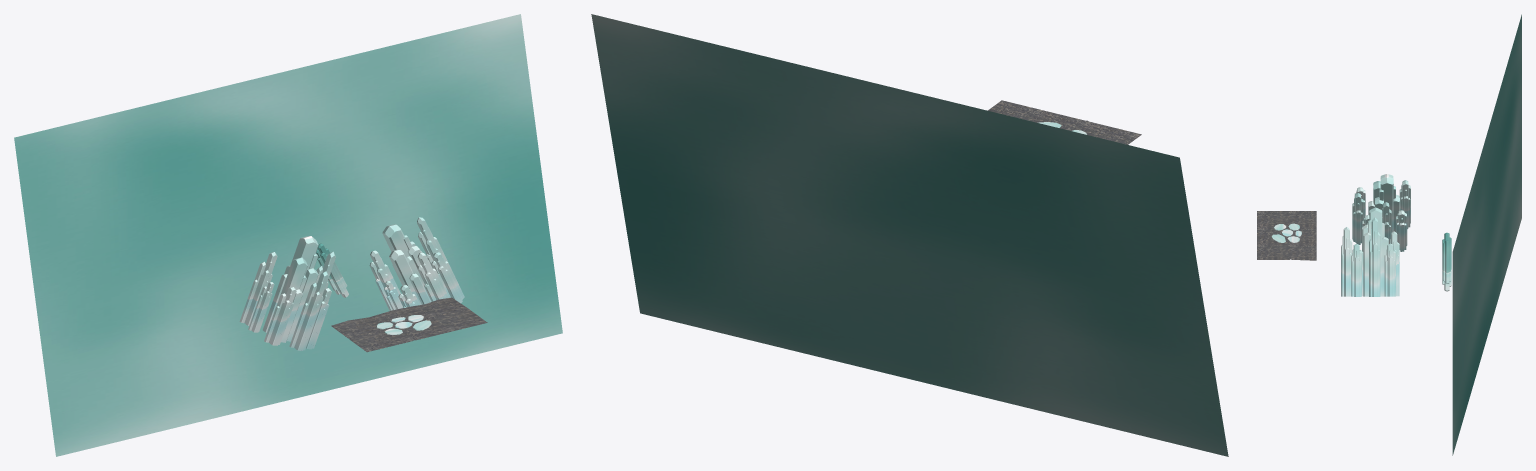
The model's file is WordFightArena_Blender.fbx.
The picture shows the model from 3 angles, left to right: view 1: azimuth 30°, elevation 25°; view 2: azimuth 150°, elevation 25°; view 3: azimuth 270°, elevation 25°; orthographic projection. The views are drawn at different scales.
Parts seen in each view (by area): view 1: pPlane1, SM_Cristall_51, SM_Cristall_52, pCube6, SM_Cristall_48; view 2: pPlane1, pCube6; view 3: pPlane1, SM_Cristall_52, SM_Cristall_51, pCube6, SM_Cristall_48.
Part boxes in pixels (x1,y1,x2,y2): pPlane1: [14, 14, 562, 456]; SM_Cristall_51: [239, 236, 335, 350]; SM_Cristall_52: [369, 217, 464, 310]; pCube6: [331, 297, 487, 352]; SM_Cristall_48: [316, 243, 348, 297]; pPlane1: [591, 14, 1228, 456]; pCube6: [988, 100, 1141, 144]; pPlane1: [1452, 14, 1521, 455]; SM_Cristall_52: [1341, 207, 1399, 296]; SM_Cristall_51: [1352, 174, 1410, 251]; pCube6: [1257, 211, 1316, 260]; SM_Cristall_48: [1442, 232, 1451, 291].
Size of the model in its own units: 602 by 327 by 329.
